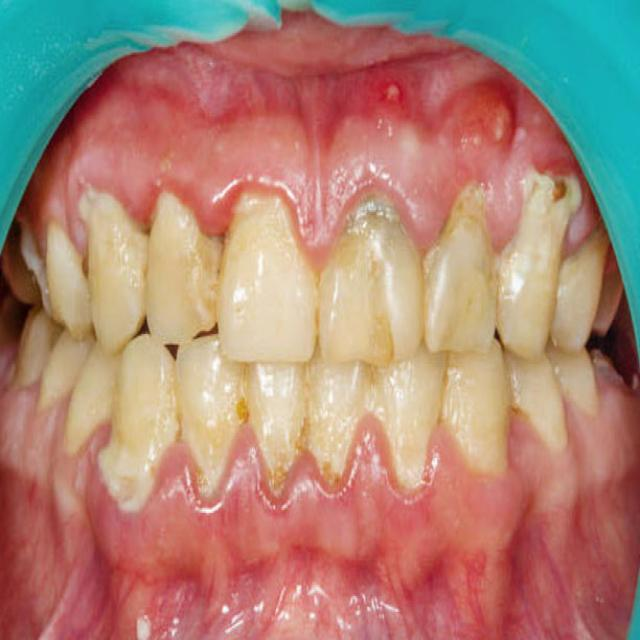caries: (587, 332, 640, 403)
